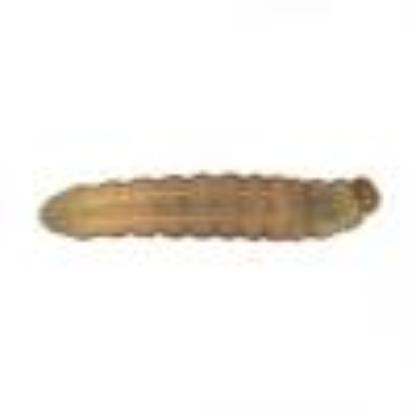oruga: (35, 158, 388, 258)
